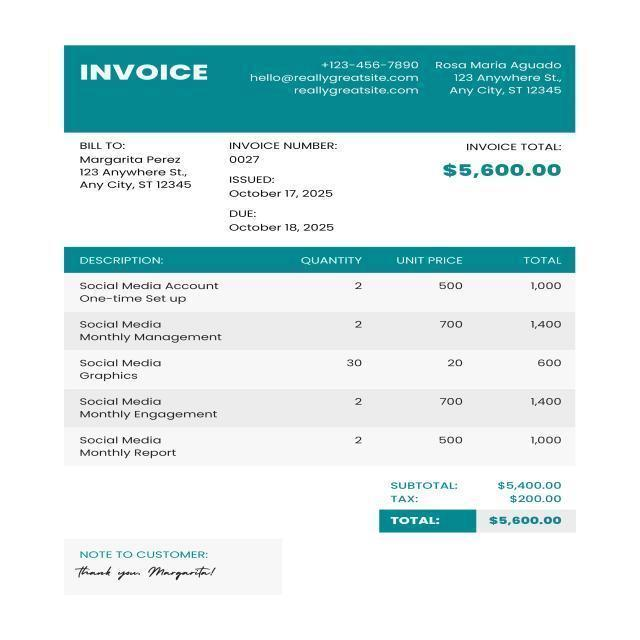paragraph: (379, 472, 578, 533), (228, 140, 354, 233), (248, 58, 422, 100), (71, 140, 196, 195), (76, 548, 226, 588), (433, 59, 566, 102), (444, 143, 569, 186), (76, 59, 211, 85)
table: (63, 245, 579, 461)
